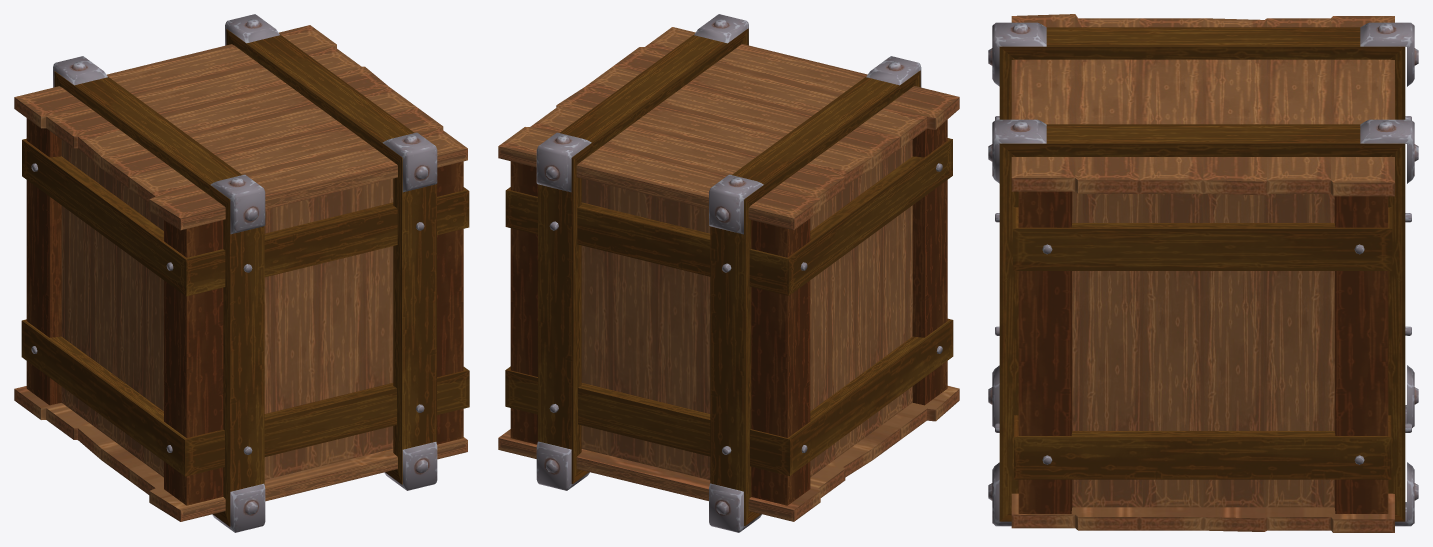
Rendered from Crate_Wooden.gltf.
The picture shows the model from 3 angles, left to right: view 1: azimuth 30°, elevation 25°; view 2: azimuth 150°, elevation 25°; view 3: azimuth 270°, elevation 25°; orthographic projection. The views are drawn at different scales.
Visible parts, largest first — view 1: Crate_Wooden; view 2: Crate_Wooden; view 3: Crate_Wooden.
Part boxes in pixels (bbox=[...]): Crate_Wooden: bbox=[14, 14, 469, 532]; Crate_Wooden: bbox=[498, 14, 959, 532]; Crate_Wooden: bbox=[988, 14, 1418, 532].
Bounding box in the file's own units: 0.8423 × 0.9309 × 0.9083.
Materials: 2 (2 with a texture image).
